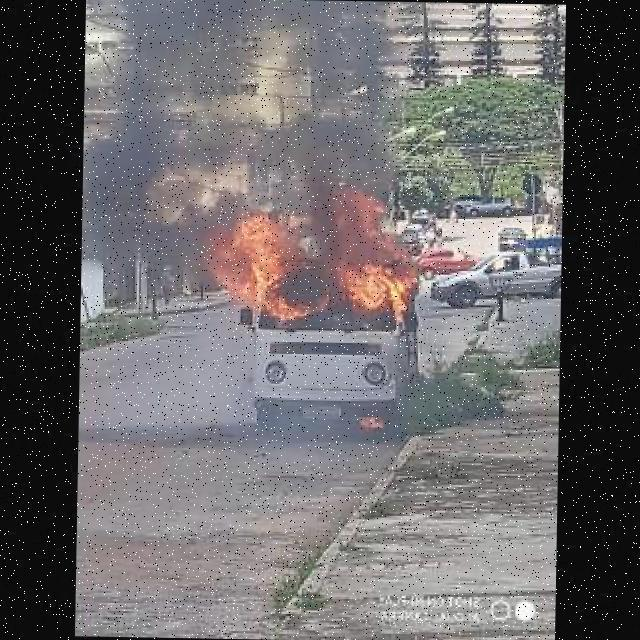Fire: (206, 208, 328, 318), (338, 188, 414, 320), (360, 417, 384, 427)
Smoke: (82, 2, 266, 306), (282, 0, 421, 260)
